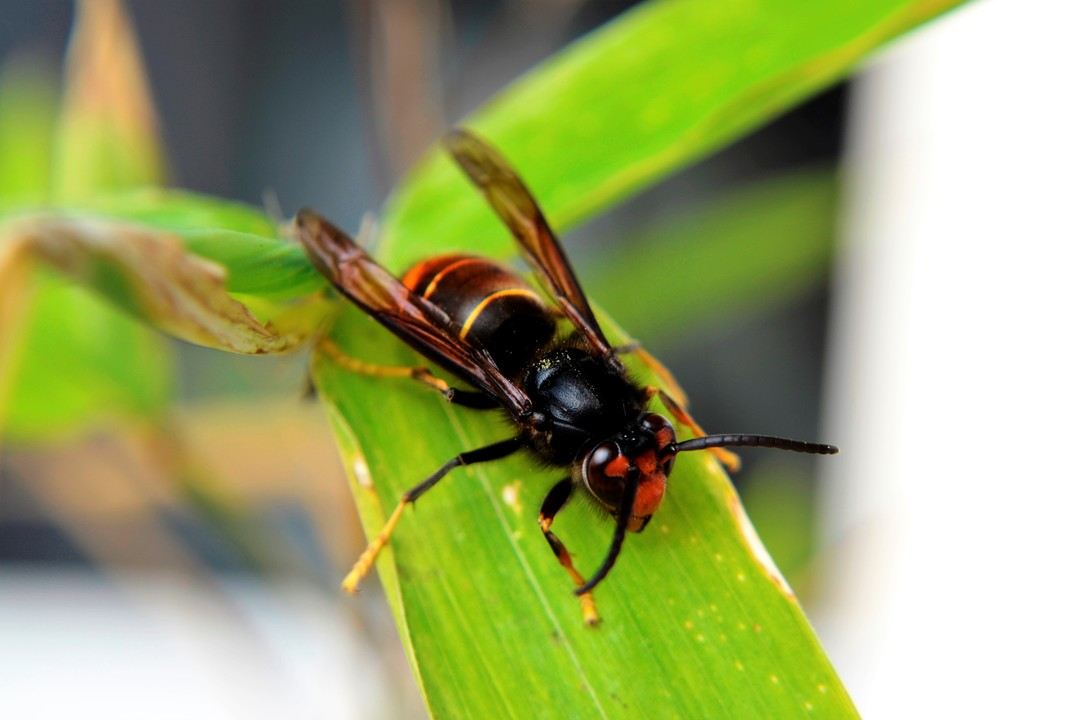hornet: (335, 144, 740, 555)
